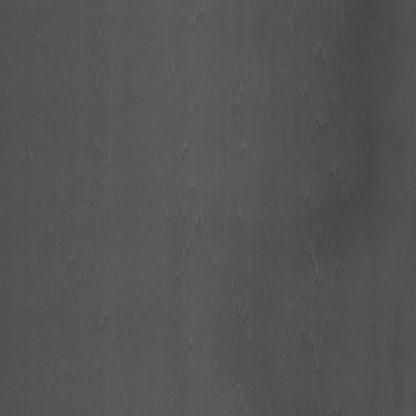silk_spot: (170, 113, 220, 297)
